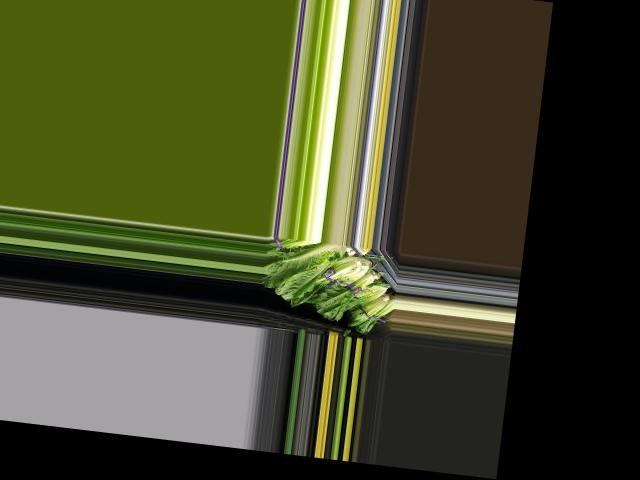lettuce: (262, 239, 344, 302)
